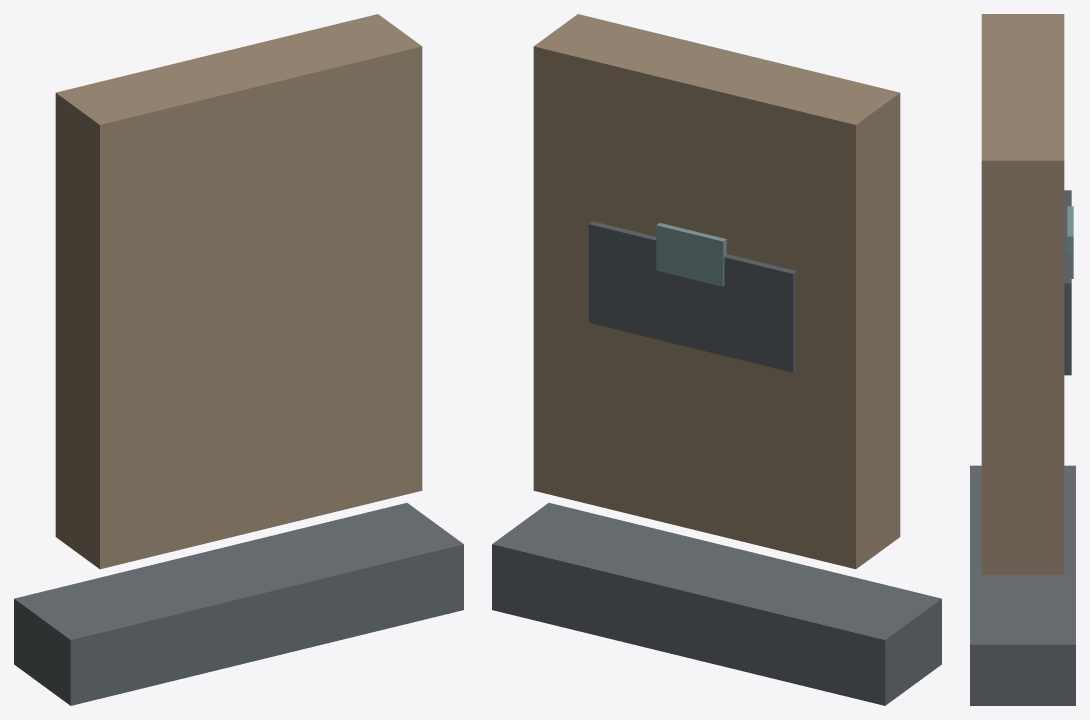
The model's file is iz3_military_radar_02.glb.
3 views of the same model, side by side, from view 1: azimuth 30°, elevation 25°; view 2: azimuth 150°, elevation 25°; view 3: azimuth 270°, elevation 25° (orthographic). The views are drawn at different scales.
Visible parts, largest first — view 1: cabinet, base; view 2: cabinet, base, panel, display; view 3: cabinet, base, panel, display.
Part boxes in pixels (x1=…): cabinet: x1=55, y1=14, x2=422, y2=569; base: x1=14, y1=503, x2=463, y2=705; cabinet: x1=533, y1=14, x2=900, y2=569; base: x1=492, y1=503, x2=941, y2=705; panel: x1=588, y1=221, x2=796, y2=372; display: x1=656, y1=223, x2=726, y2=286; cabinet: x1=981, y1=14, x2=1064, y2=574; base: x1=970, y1=465, x2=1075, y2=705; panel: x1=1064, y1=190, x2=1071, y2=375; display: x1=1067, y1=206, x2=1073, y2=278.
Size of the model in its own units: 2 by 2.76 by 0.5.
